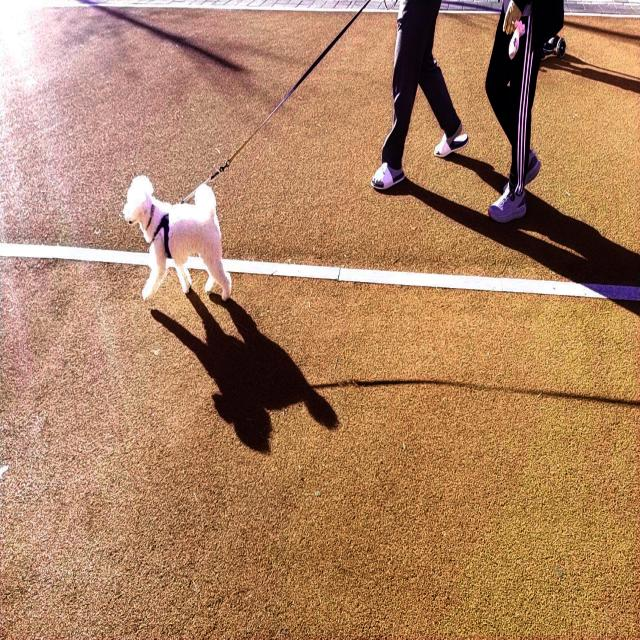Leashed_Dog: (123, 0, 441, 300)
